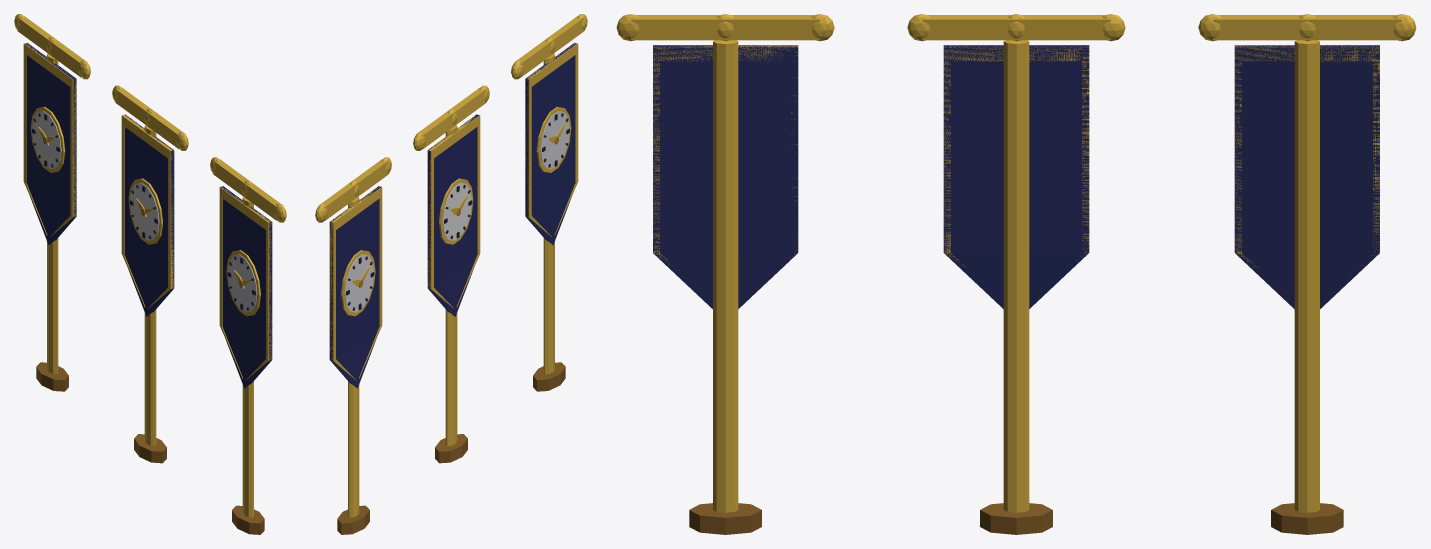
Rendered from Decor_ClockTower_TimeBanners.fbx.
3 renders of one model, left to right at view 1: azimuth 30°, elevation 25°; view 2: azimuth 150°, elevation 25°; view 3: azimuth 270°, elevation 25°, orthographic. The views are drawn at different scales.
Visible parts, largest first — view 1: TimeBanners_Body; view 2: TimeBanners_Body; view 3: TimeBanners_Body.
Boxes of the visible parts, x1,y1,x2,y2 form: TimeBanners_Body: (14, 14, 286, 534); TimeBanners_Body: (315, 14, 587, 534); TimeBanners_Body: (616, 14, 1416, 534).
Size of the model in its own units: 1 by 15 by 21.2.
